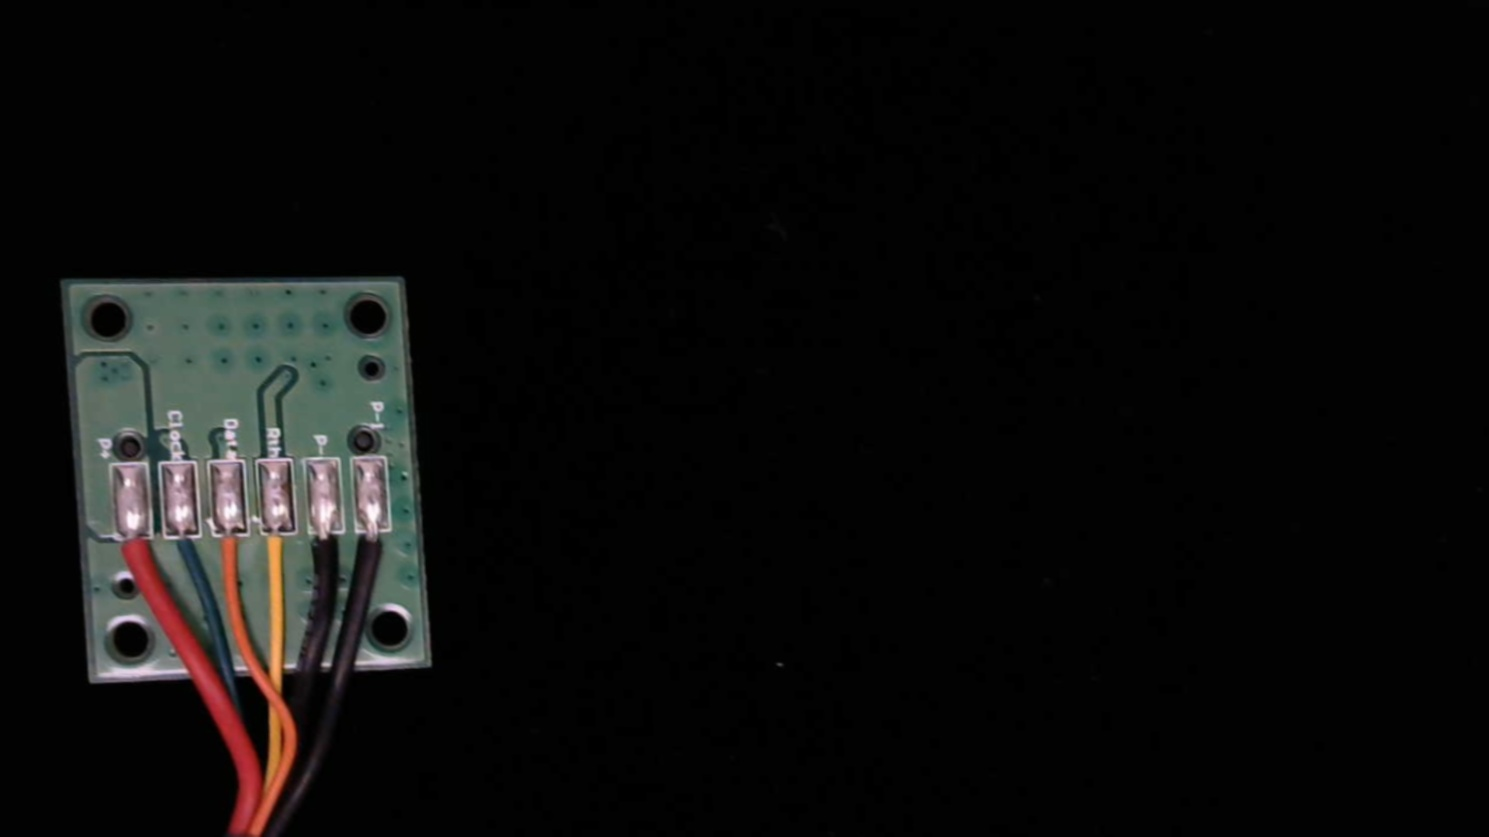Black: (307, 515, 347, 590)
Black1: (353, 514, 395, 593)
Green: (161, 518, 204, 586)
Orange: (209, 517, 249, 589)
Red: (110, 520, 156, 603)
Yellow: (258, 517, 302, 590)
